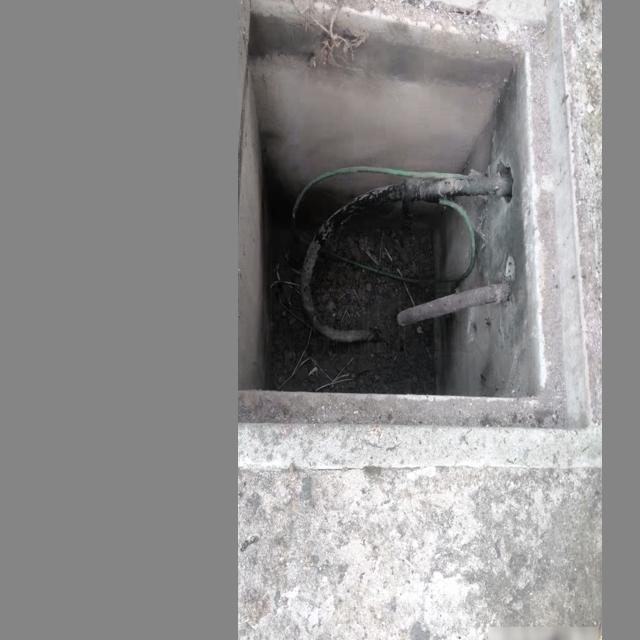lose: (238, 0, 589, 474)
